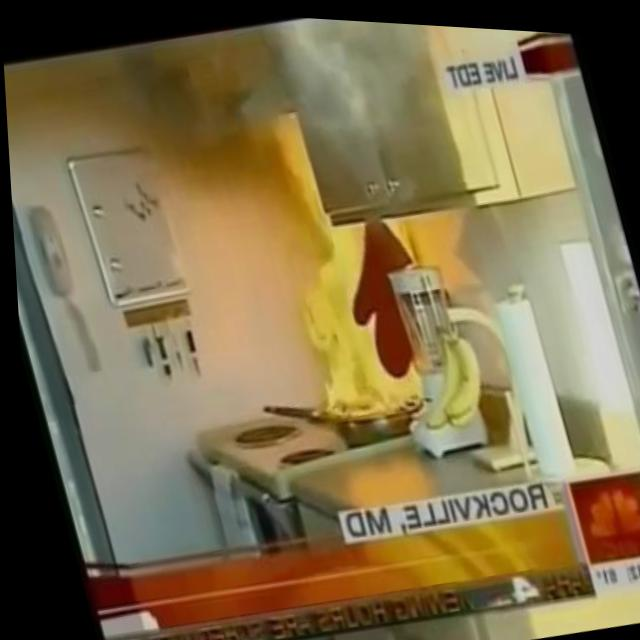fire: (240, 87, 450, 425)
